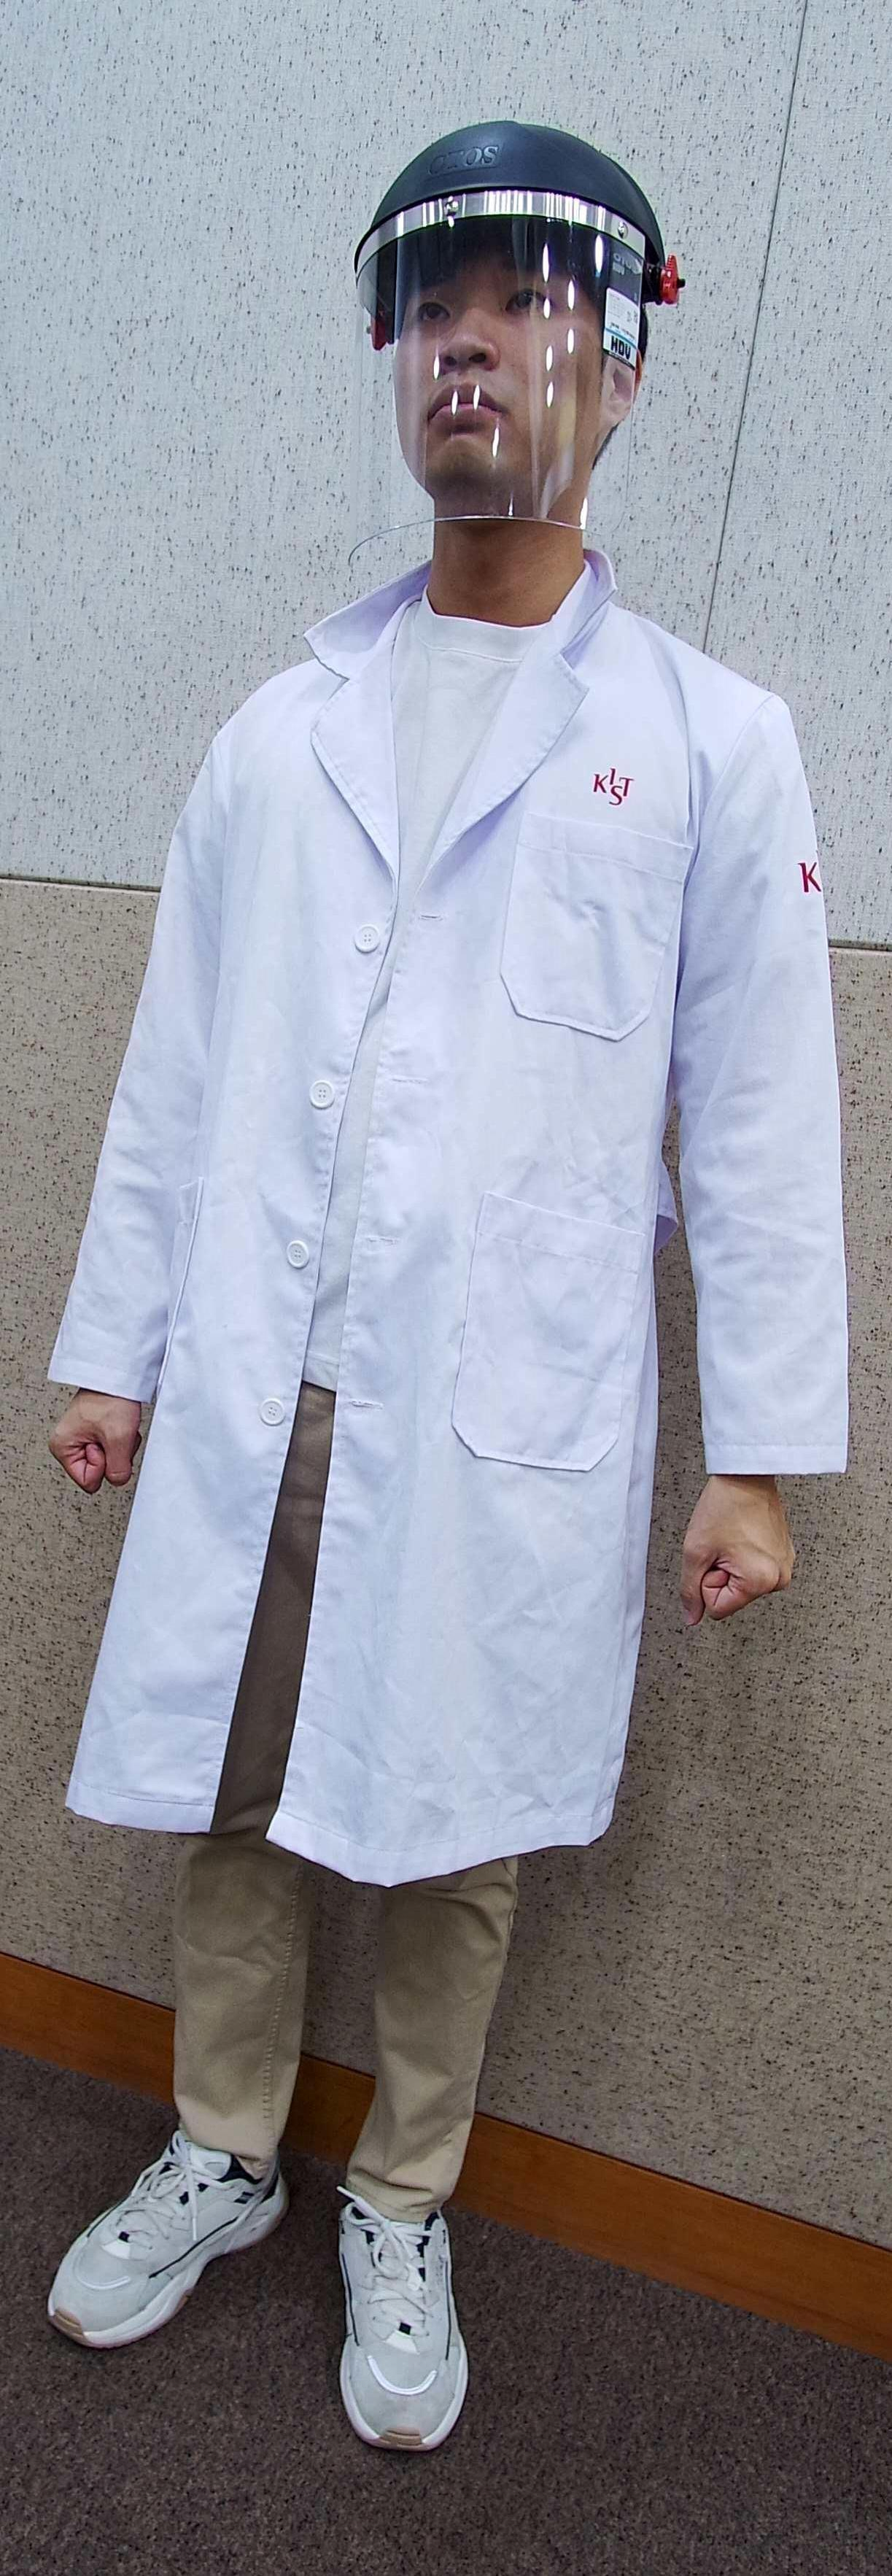lab_coat: (99, 687, 695, 1840)
